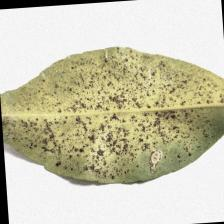canker: (64, 67, 169, 156)
